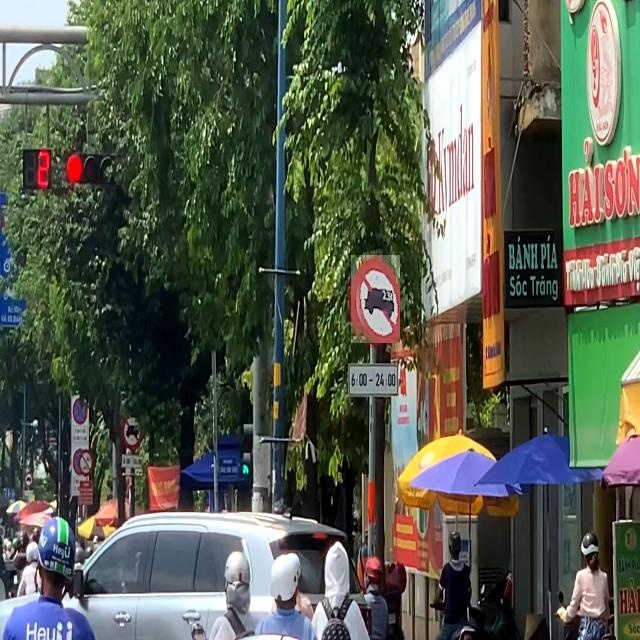bien_cam: (351, 255, 400, 343)
